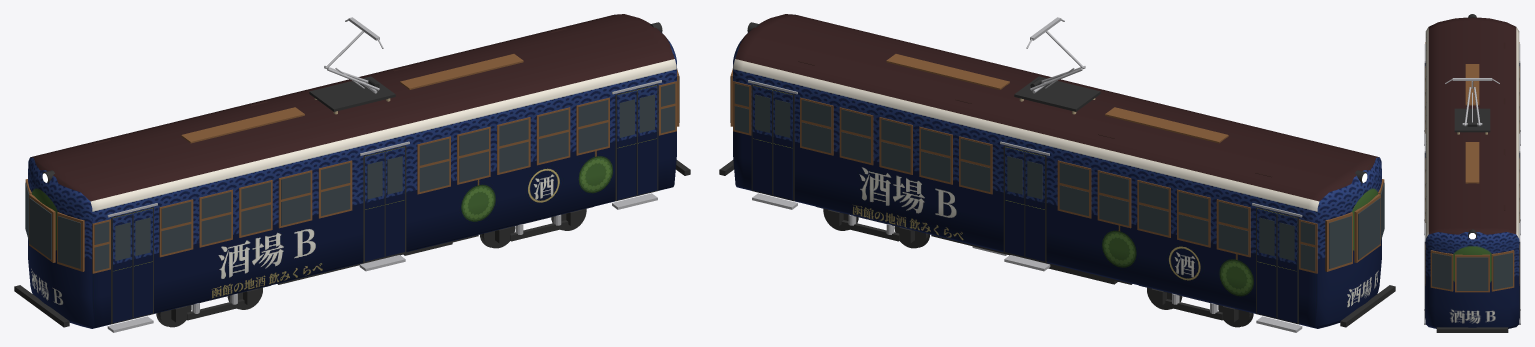
The model's file is tram-sakaba-b.glb.
3 views of the same model, side by side, from view 1: azimuth 30°, elevation 25°; view 2: azimuth 150°, elevation 25°; view 3: azimuth 270°, elevation 25° (orthographic). The views are drawn at different scales.
Visible parts, largest first — view 1: H500_Body, H500_SideWin_Glass, H500_Door_Navy, H500_SideWin_Varnish, H500_Door_Beige, H500_Door_Glass, H500_Bogie_Dark, H500_Roof_Varnish, H500_Front_Glass, H500_Door_Dark, H500_Panta_Dark, H500_Under_Metal (+4 smaller); view 2: H500_Body, H500_SideWin_Glass, H500_Door_Navy, H500_SideWin_Varnish, H500_Door_Beige, H500_Door_Glass, H500_Bogie_Dark, H500_Roof_Varnish, H500_Front_Glass, H500_Door_Dark, H500_Panta_Dark, H500_Under_Metal (+5 smaller); view 3: H500_Body, H500_Front_Glass, H500_Roof_Varnish, H500_Front_Varnish, H500_Panta_Dark, H500_Door_Dark, H500_Front_Metal, H500_Panta_Metal, H500_SideWin_Varnish, H500_SideWin_Glass, H500_Door_Metal, H500_Under_Metal.
Boxes of the visible parts, x1,y1,x2,y2 form: H500_Body: [28, 14, 676, 328]; H500_SideWin_Glass: [94, 83, 675, 271]; H500_Door_Navy: [112, 138, 657, 322]; H500_SideWin_Varnish: [92, 81, 676, 273]; H500_Door_Beige: [112, 85, 657, 270]; H500_Door_Glass: [115, 94, 654, 260]; H500_Bogie_Dark: [156, 206, 593, 327]; H500_Roof_Varnish: [181, 54, 523, 143]; H500_Front_Glass: [25, 76, 679, 268]; H500_Door_Dark: [110, 84, 658, 324]; H500_Panta_Dark: [309, 76, 395, 111]; H500_Under_Metal: [107, 193, 657, 332]; H500_Body: [733, 14, 1381, 328]; H500_SideWin_Glass: [734, 83, 1315, 271]; H500_Door_Navy: [752, 138, 1297, 322]; H500_SideWin_Varnish: [733, 81, 1317, 273]; H500_Door_Beige: [752, 85, 1297, 270]; H500_Door_Glass: [755, 94, 1294, 260]; H500_Bogie_Dark: [816, 206, 1253, 327]; H500_Roof_Varnish: [886, 54, 1228, 143]; H500_Front_Glass: [730, 76, 1384, 268]; H500_Door_Dark: [751, 84, 1299, 324]; H500_Panta_Dark: [1014, 76, 1100, 111]; H500_Under_Metal: [752, 193, 1302, 332]; H500_Body: [1425, 17, 1519, 328]; H500_Front_Glass: [1432, 253, 1512, 290]; H500_Roof_Varnish: [1465, 64, 1479, 183]; H500_Front_Varnish: [1430, 250, 1514, 292]; H500_Panta_Dark: [1454, 108, 1490, 132]; H500_Door_Dark: [1424, 63, 1520, 319]; H500_Front_Metal: [1436, 327, 1508, 332]; H500_Panta_Metal: [1445, 78, 1499, 126]; H500_SideWin_Varnish: [1425, 42, 1519, 285]; H500_SideWin_Glass: [1425, 68, 1519, 283]; H500_Door_Metal: [1424, 44, 1520, 241]; H500_Under_Metal: [1424, 130, 1520, 324].
Size of the model in its own units: 13.17 by 4.7 by 2.42.
8 materials, 1 textured.
